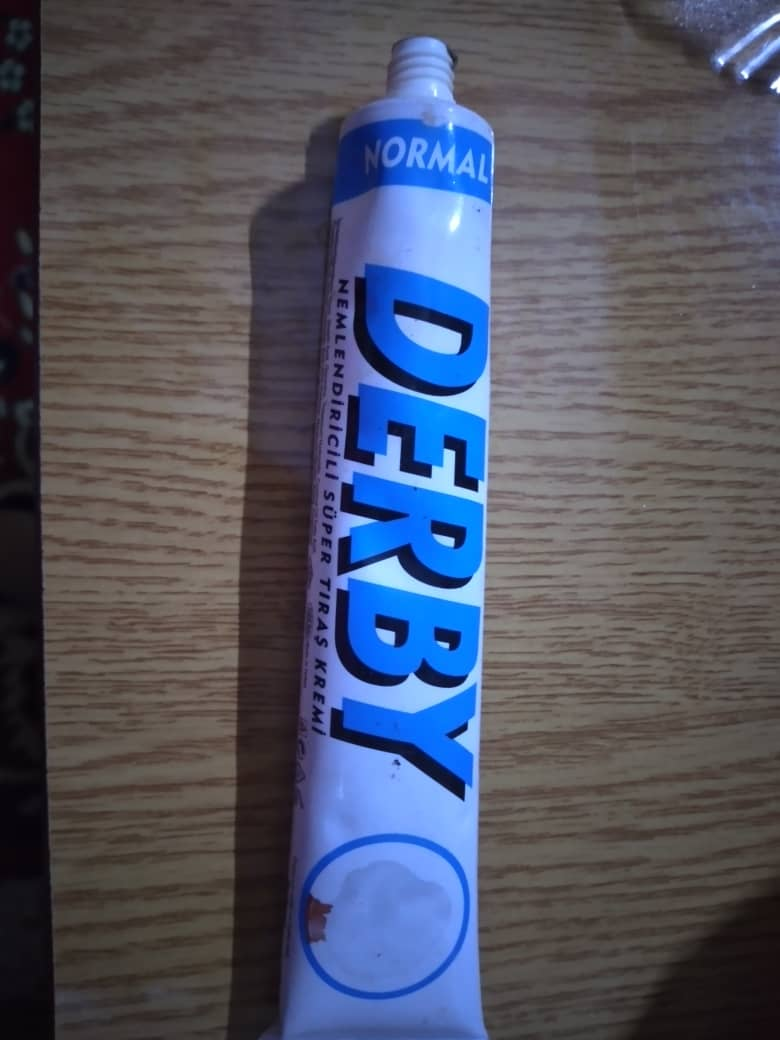Medicine: (270, 17, 533, 1040)
